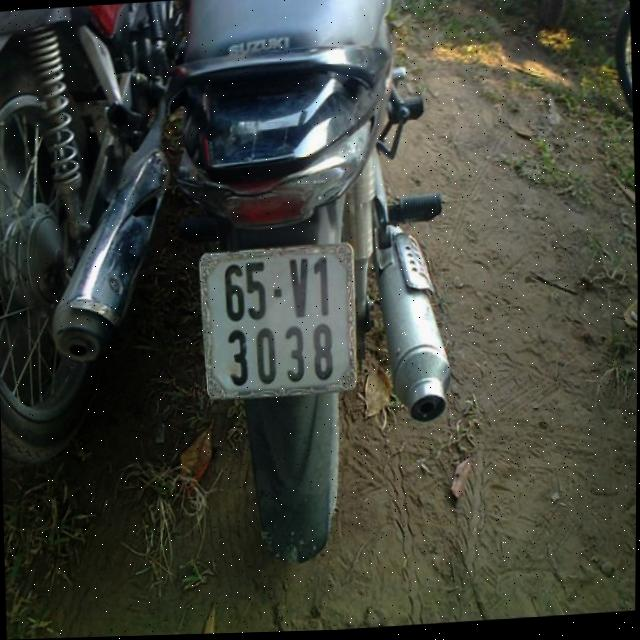motorcycle: (161, 0, 467, 567), (0, 0, 193, 492)
plate: (186, 230, 364, 410)
